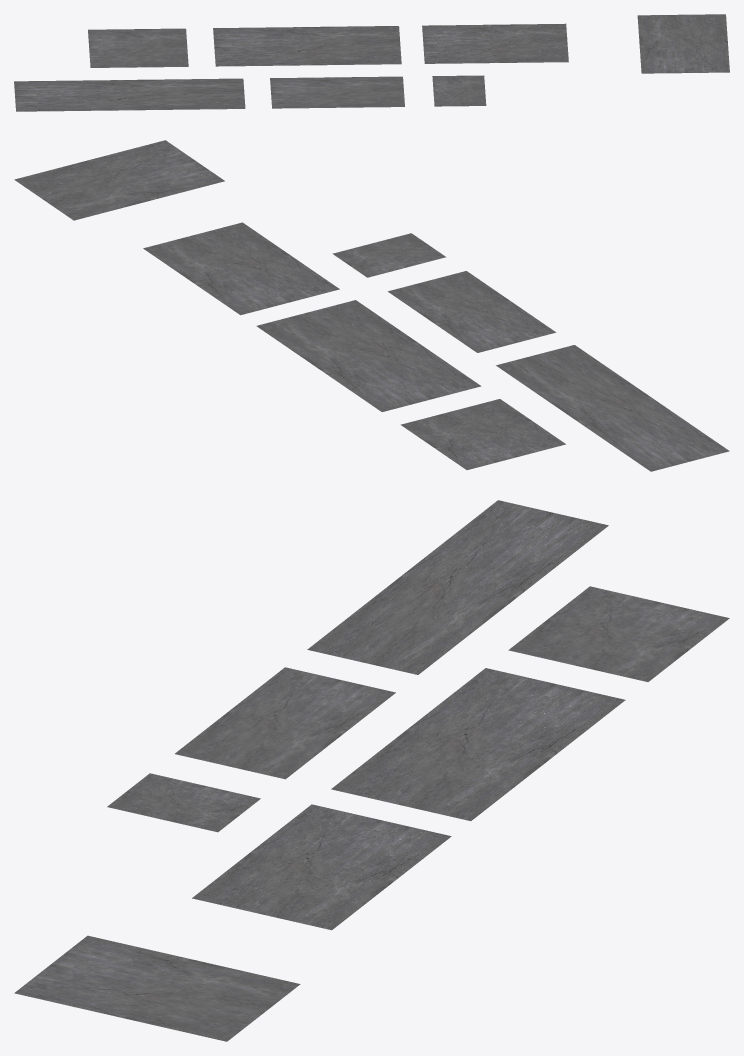
File: Quads.fbx
3 views of the same model, one above another, from view 1: azimuth 30°, elevation 25°; view 2: azimuth 150°, elevation 25°; view 3: azimuth 270°, elevation 25° (orthographic). The views are drawn at different scales.
Parts seen in each view (by area): view 1: Quads; view 2: Quads; view 3: Quads.
Boxes of the visible parts, left/top/right/bottom form: Quads: left=14, top=14, right=729, bottom=111; Quads: left=14, top=140, right=729, bottom=471; Quads: left=14, top=500, right=729, bottom=1041.
Bounding box in the file's own units: 57019 × 23.04 × 31877.
